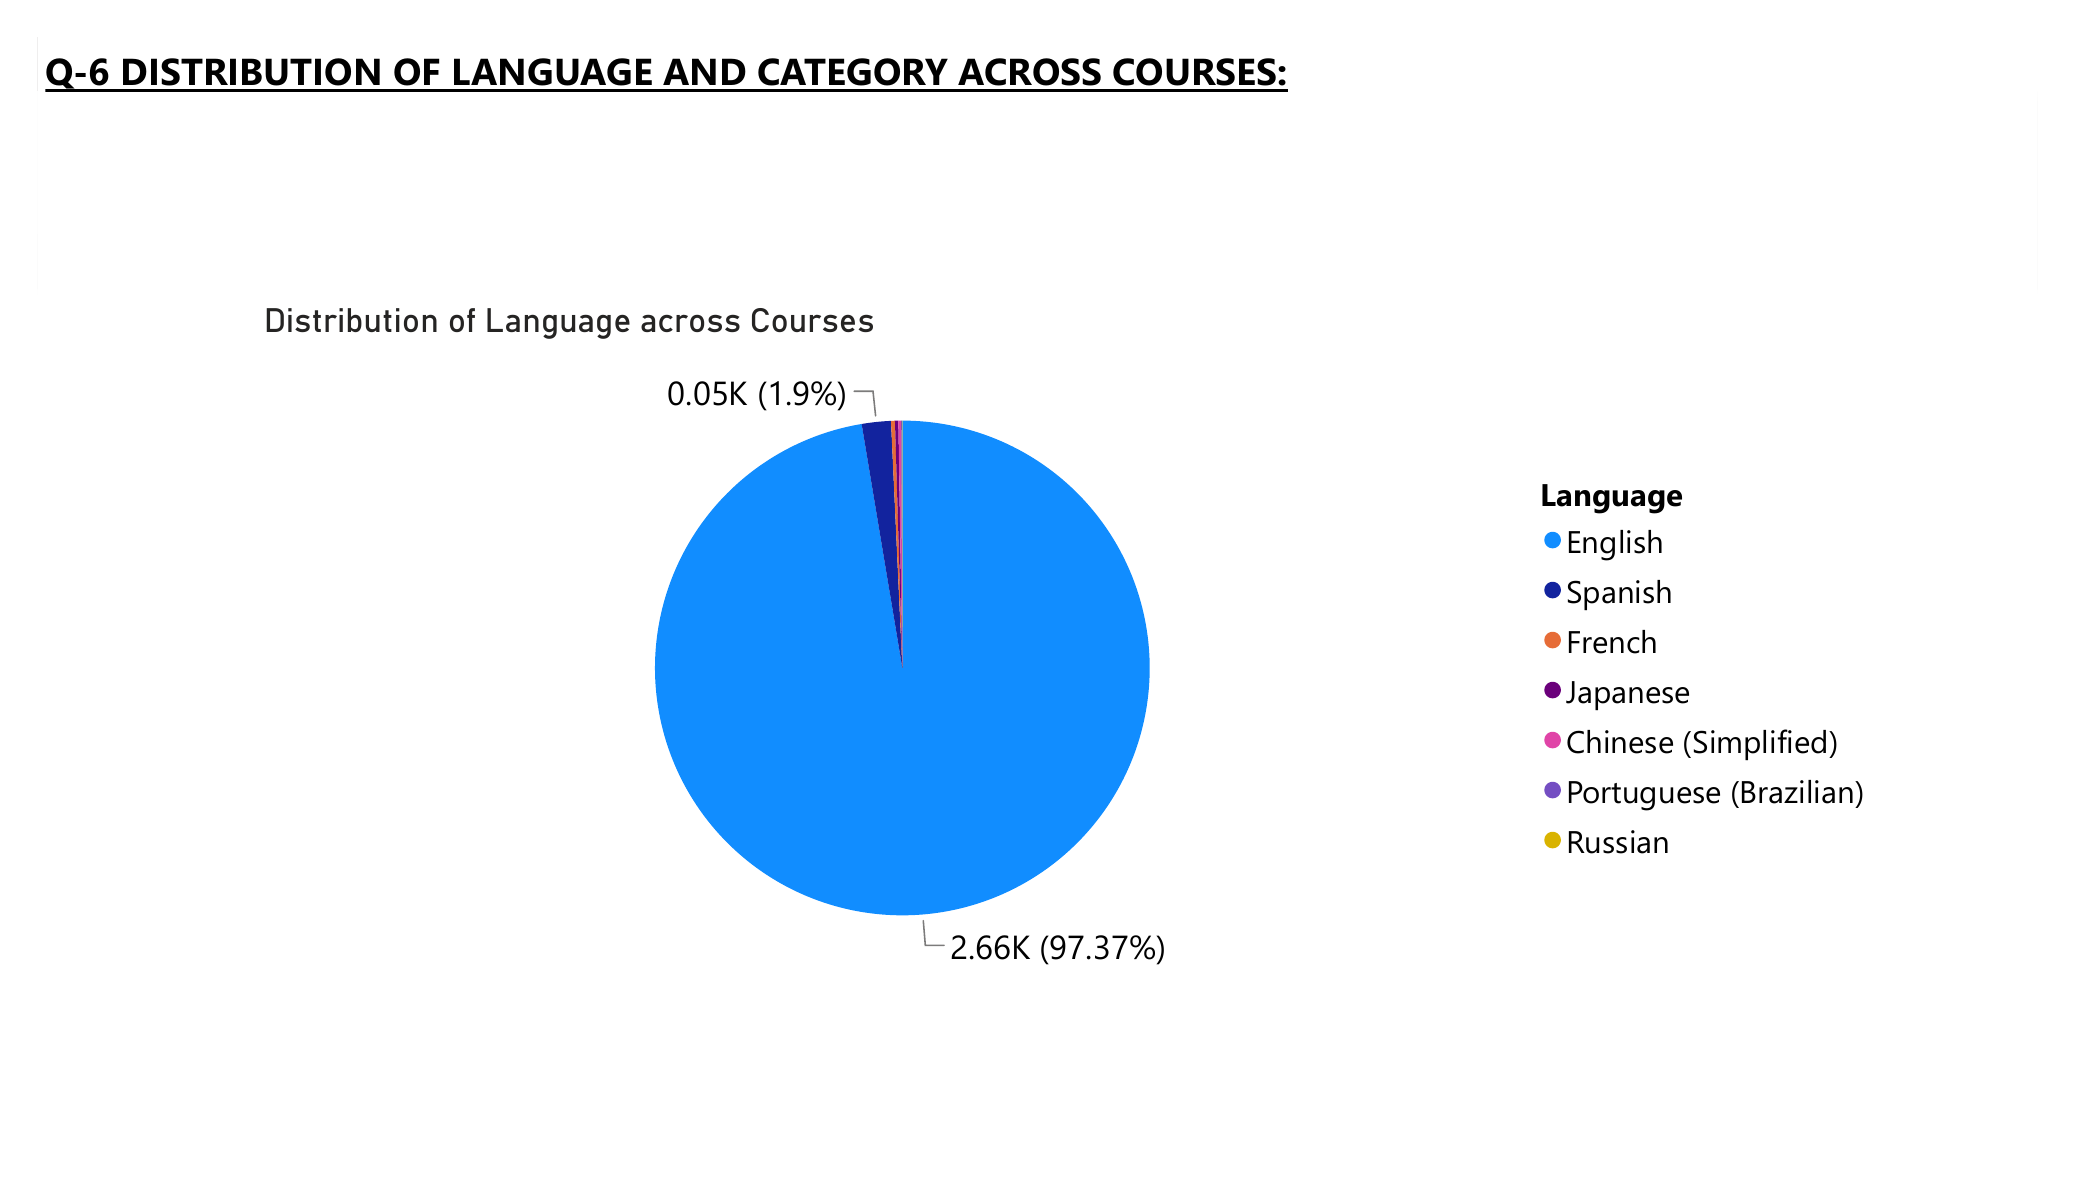

This screenshot's page, from the dashboard's own definition file:
{"tool":"powerbi","page":{"name":"Q-6","canvas":[1280,720],"ordinal":6},"visuals":[{"type":"pieChart","title":"Distribution of Language across Courses","fields":{"Category":["Online_Courses.Language","Online_Courses.Category"],"Y":["CountNonNull(Online_Courses.CourseID)"]},"box":[140,168.6,1044.3,445.7],"z":0},{"type":"textbox","box":[0,0,1044.3,126.2],"z":1000}]}

Visuals, with their boxes on the page's 1280x720 design canvas (x1, y1, x2, y2). These are canvas units, not pixel positions in the 2075x1200 screenshot, which may show the page scaled, cropped or inside an application window:
"Distribution of Language across Courses" pieChart: 140/169/1184/614
textbox: 0/0/1044/126
